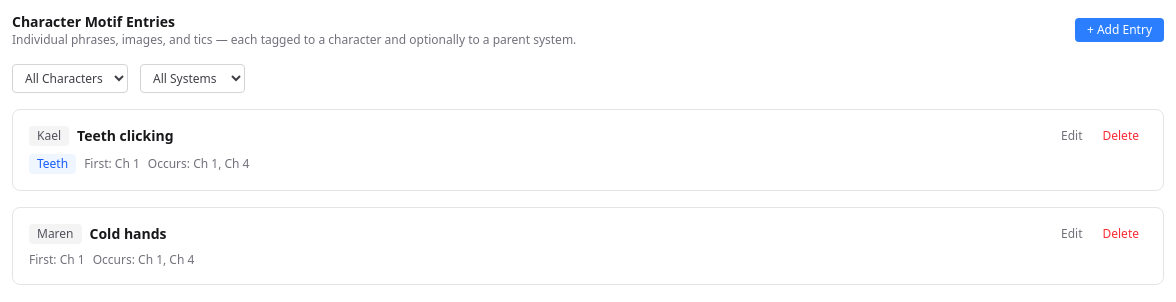
Scenario: EntriesTab › filters by character and by unassigned system
Select "Kael" in the 1st dropdown at (70, 78), box [12,64,128,93]
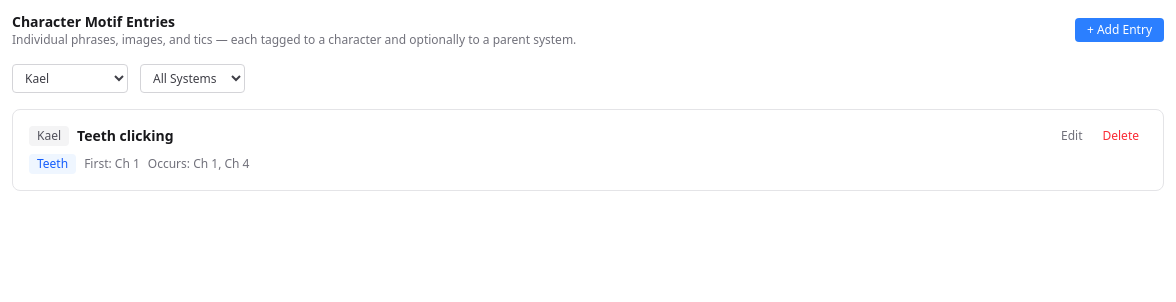
Check: the text "Cold hands" is gone
Select "All Characters" in the 1st dropdown at (70, 78), box [12,64,128,93]
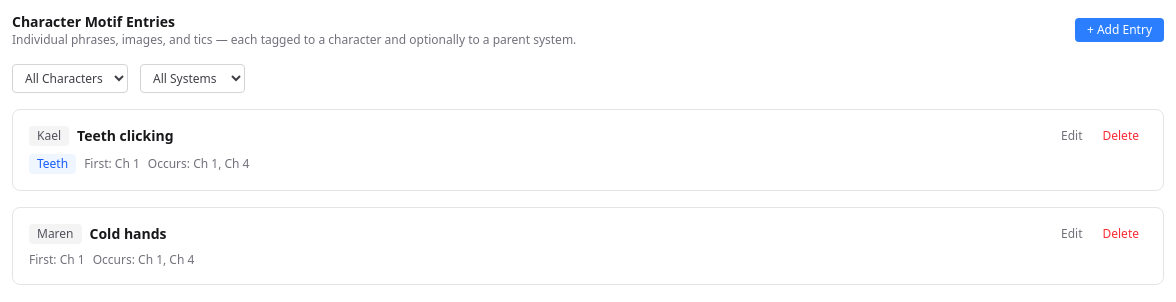
Select "Unassigned" in the 2nd dropdown at (192, 78), box [140,64,245,93]
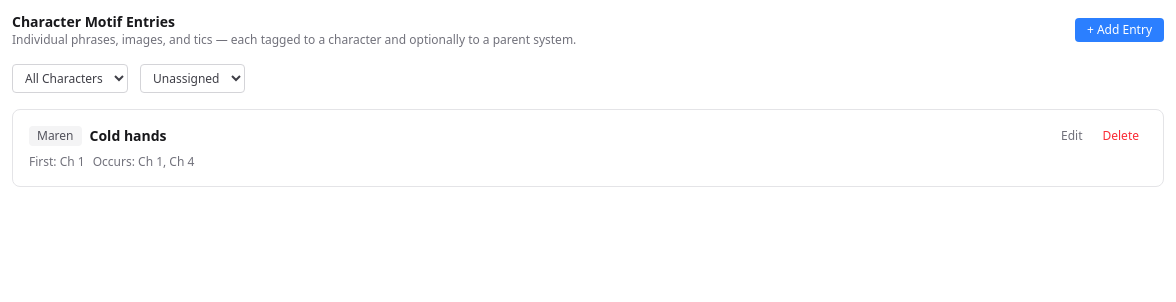
Check: the text "Cold hands" is shown, box [90,126,166,146]
Check: the text "Teeth clicking" is gone
